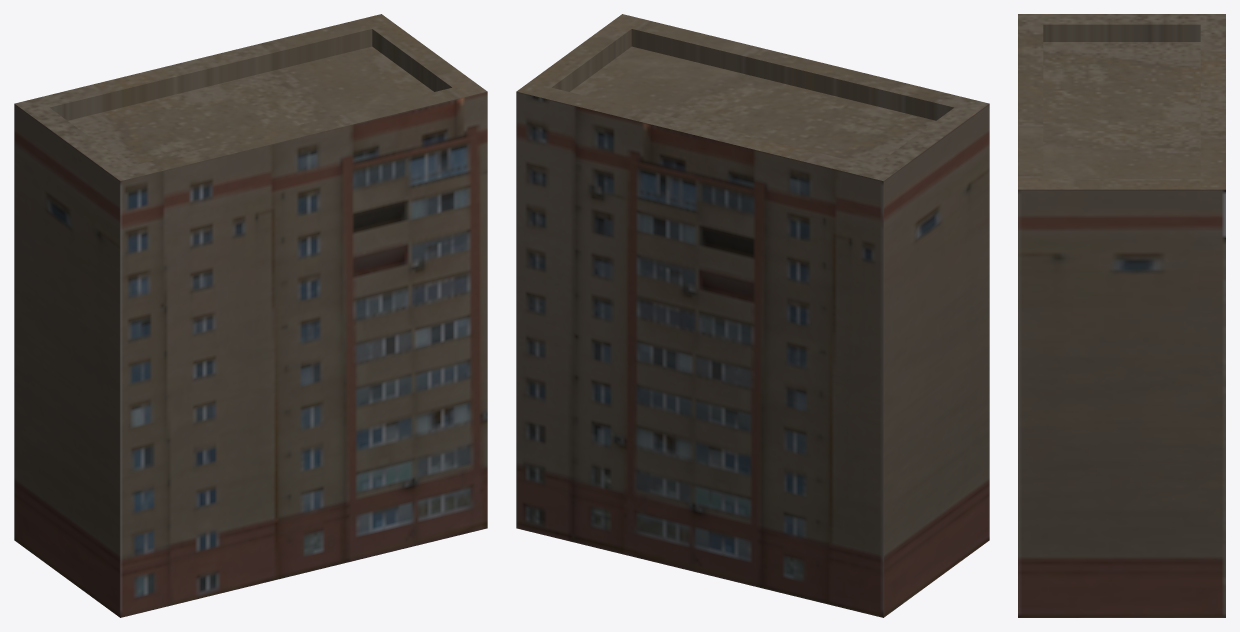
The model's file is building.glb.
3 renders of one model, left to right at view 1: azimuth 30°, elevation 25°; view 2: azimuth 150°, elevation 25°; view 3: azimuth 270°, elevation 25°, orthographic.
Parts seen in each view (by area): view 1: Cube; view 2: Cube; view 3: Cube.
Boxes of the visible parts, bbox=[...] form: Cube: bbox=[14, 14, 487, 617]; Cube: bbox=[516, 14, 989, 617]; Cube: bbox=[1018, 14, 1225, 617].
Size of the model in its own units: 88 by 100 by 44.
Materials: 1 (1 with a texture image).
